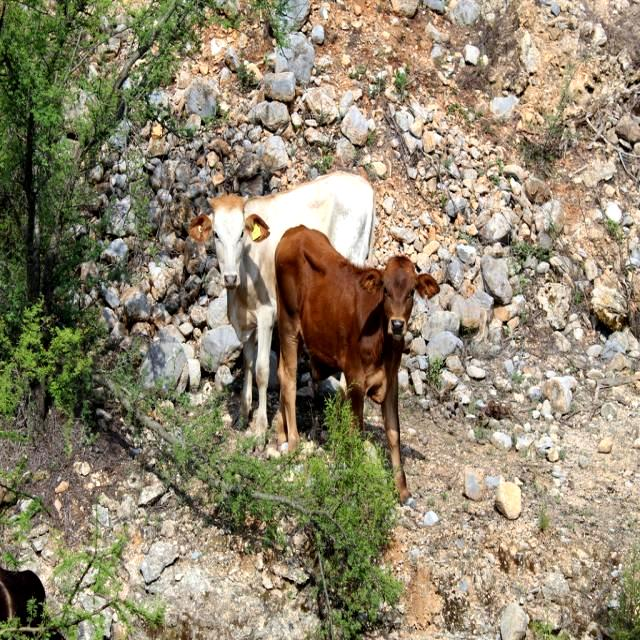COW: (189, 172, 374, 436), (275, 225, 439, 502)
